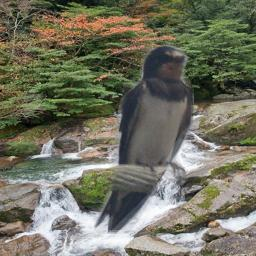Swallow: (94, 45, 194, 234)
